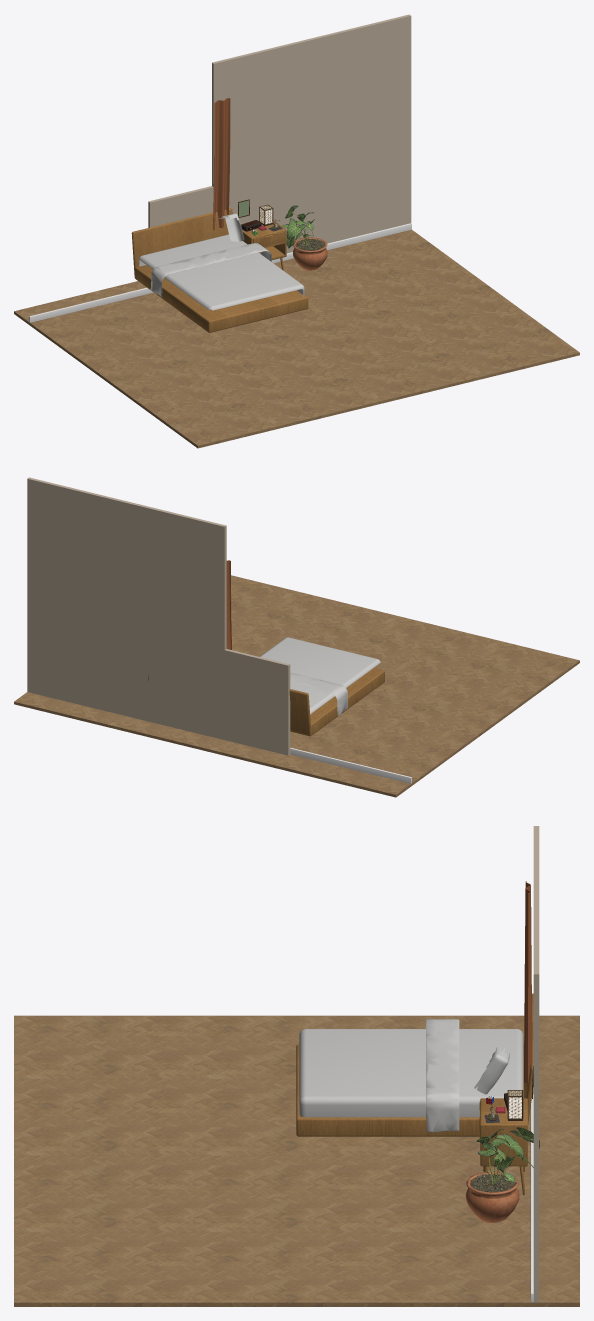
The model's file is donor.glb.
3 renders of one model, top to bottom at view 1: azimuth 30°, elevation 25°; view 2: azimuth 150°, elevation 25°; view 3: azimuth 270°, elevation 25°, orthographic. The views are drawn at different scales.
Visible parts, largest first — view 1: Floor, WallRight, WallFar, Mattress, BedFrame, Headboard, Curtain1, WallBelow, Skirting, potted_plant_02, SheetFold, Nightstand; view 2: Floor, WallRight, WallFar, WallBelow, Mattress, BedFrame, Skirting, Headboard, SheetFold, Curtain1; view 3: Floor, Mattress, SheetFold, BedFrame, potted_plant_02, WallFar, Nightstand, Curtain1, Pillow1, Skirting, WallRight.
Part boxes in pixels (x1,y1,x2,y2): Floor: (14,229,579,448); WallRight: (212,31,340,253); WallFar: (339,14,411,240); Mattress: (138,234,304,310); BedFrame: (134,265,308,332); Headboard: (131,208,232,276); Curtain1: (213,98,230,230); WallBelow: (148,186,213,227); Skirting: (29,223,411,322); potted_plant_02: (282,205,327,270); SheetFold: (150,243,271,297); Nightstand: (242,220,286,270); Floor: (14,575,579,797); WallRight: (97,494,226,739); WallFar: (27,477,98,708); WallBelow: (224,649,290,755); Mattress: (260,637,380,714); BedFrame: (290,668,384,736); Skirting: (290,747,411,783); Headboard: (289,689,311,734); SheetFold: (290,672,347,715); Curtain1: (226,560,231,649); Floor: (14,1015,579,1306); Mattress: (299,1029,523,1117); SheetFold: (426,1019,459,1132); BedFrame: (296,1044,523,1136); potted_plant_02: (465,1127,539,1222); WallFar: (533,921,539,1302); Nightstand: (479,1098,527,1195); Curtain1: (524,881,532,1086); Pillow1: (474,1046,509,1094); Skirting: (530,1087,533,1302); WallRight: (533,826,539,921).
Size of the model in its own units: 60 by 32.4 by 50.
48 materials, 11 textured.
